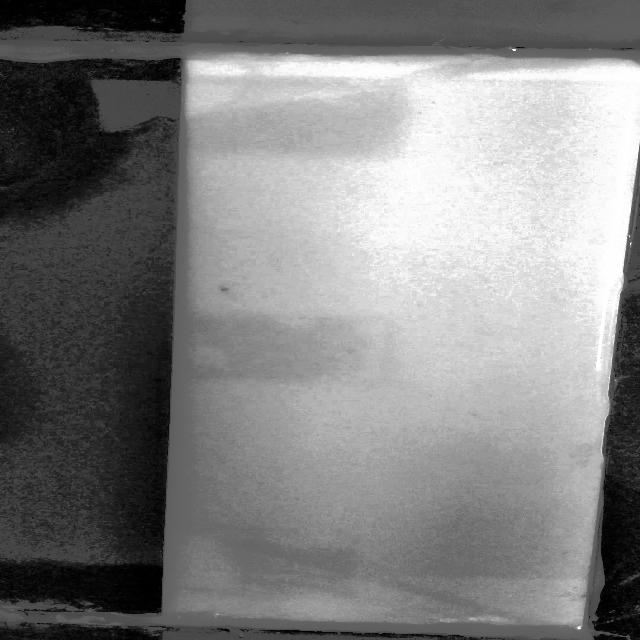shrimp: (199, 278, 250, 300)
